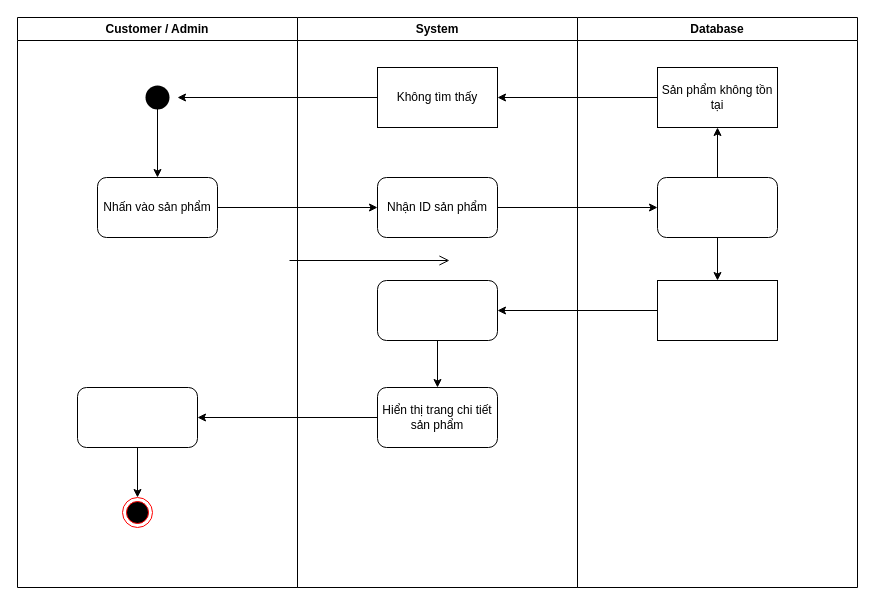
Image size: 875x605. Some labels were removed from this diagram. The shapes that lost their labels are listed below. From the top down, each one's centre as x and y in pixels, then its label:
(x=717, y=207): Truy vấn sản phẩm từ Database
(x=437, y=310): Lấy dữ liệu
(x=717, y=310): Sản phẩm tồn tại
(x=137, y=417): Customer / Admin tương tác
